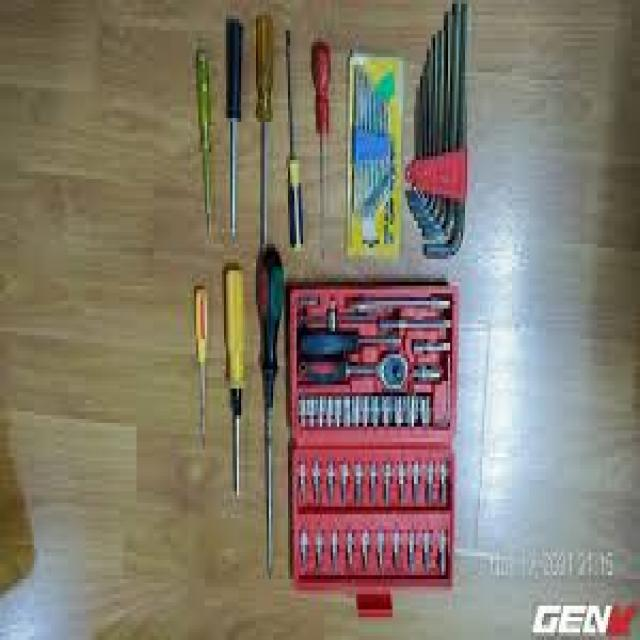screwdriver: (254, 242, 288, 581), (253, 9, 276, 261), (223, 263, 246, 507), (309, 34, 333, 267), (282, 22, 306, 252), (224, 11, 243, 244), (196, 44, 214, 238), (192, 278, 209, 457)
